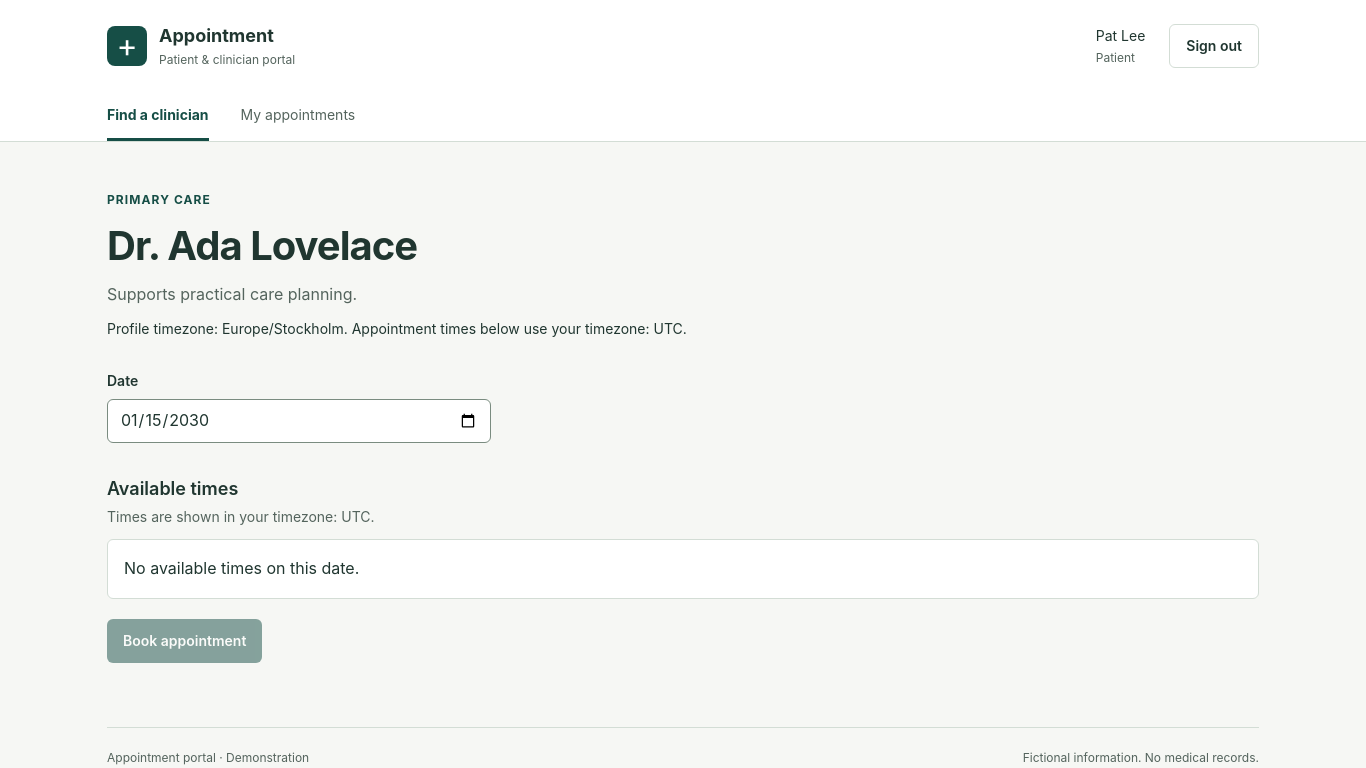
availability date bounds › keeps a cleared date invalid instead of silently replacing it with today
Expected: the text "No available times on this date." is shown, [107,539,1259,599]
Clear the date field labelled "Date". click: coordinates (299, 421)
box: [107,399,491,443]
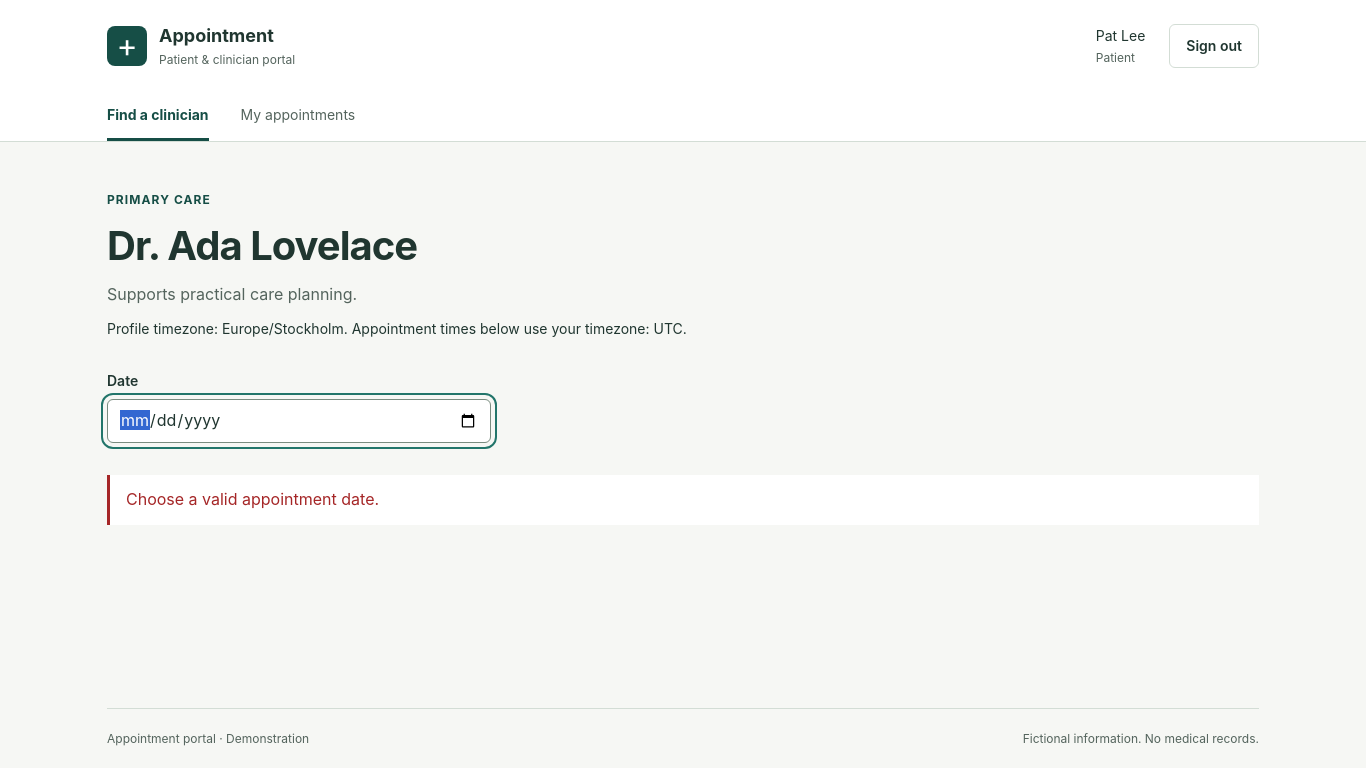
Now the text "Choose a valid appointment date." is shown, box [107,475,1259,525]
